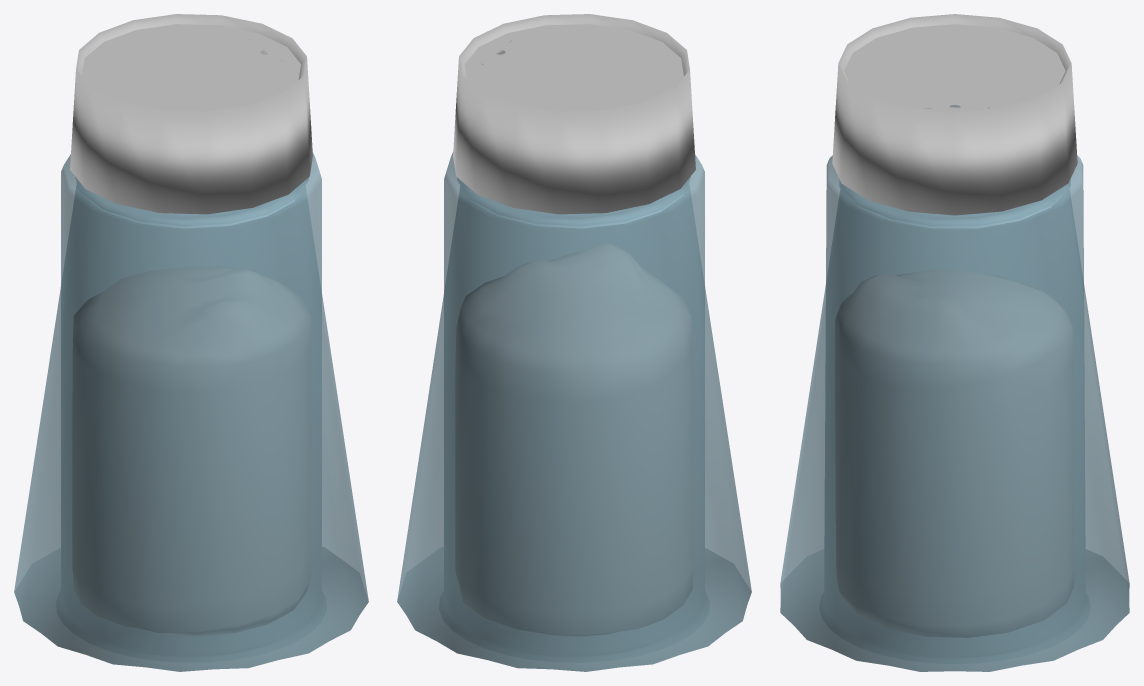
File: common_salt.fbx
3 views of the same model, side by side, from view 1: azimuth 30°, elevation 25°; view 2: azimuth 150°, elevation 25°; view 3: azimuth 270°, elevation 25° (orthographic).
Parts seen in each view (by area): view 1: polySurface2, polySurface1, polySurface3; view 2: polySurface2, polySurface1, polySurface3; view 3: polySurface2, polySurface1, polySurface3.
Part boxes in pixels (x1,y1,x2,y2): polySurface2: (14, 152, 368, 671); polySurface1: (72, 266, 310, 636); polySurface3: (70, 14, 312, 214); polySurface2: (397, 152, 751, 671); polySurface1: (455, 243, 693, 636); polySurface3: (453, 14, 695, 214); polySurface2: (780, 105, 1129, 671); polySurface1: (835, 270, 1074, 637); polySurface3: (832, 14, 1077, 215).
Size of the model in its own units: 4.68 by 8.07 by 4.68.
